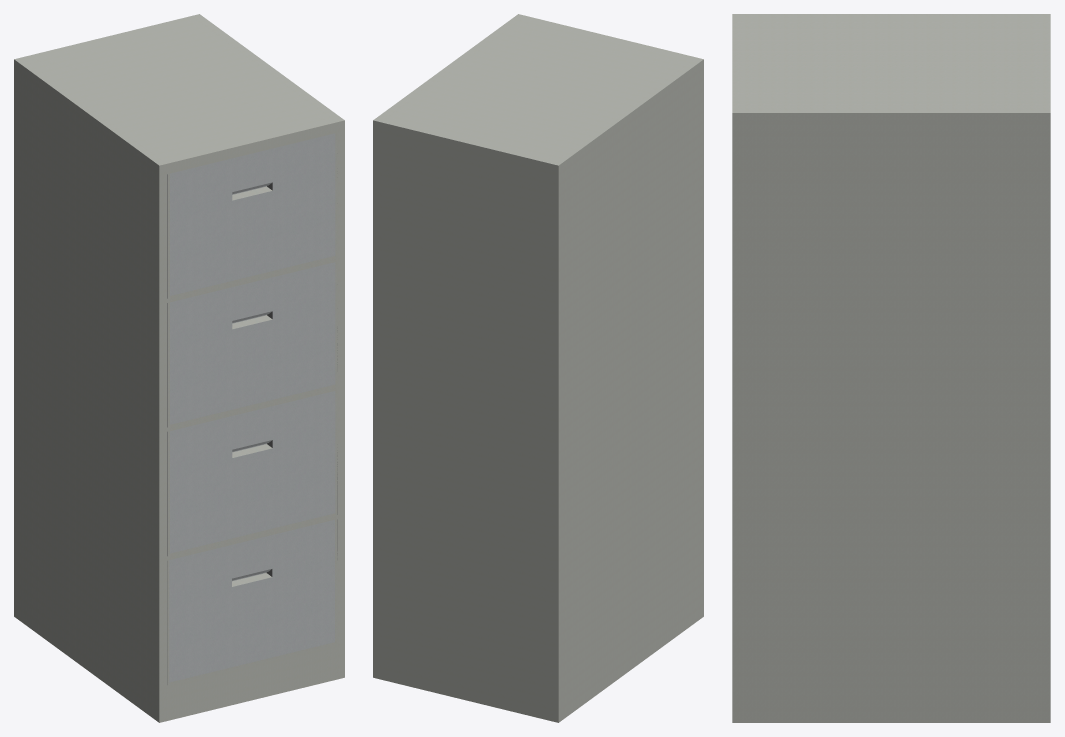
File: shelf.gltf
3 views of the same model, side by side, from view 1: azimuth 30°, elevation 25°; view 2: azimuth 150°, elevation 25°; view 3: azimuth 270°, elevation 25° (orthographic). The views are drawn at different scales.
Parts seen in each view (by area): view 1: Structure, Shelf (×4), UnderShelf (×3); view 2: Structure; view 3: Structure.
Part boxes in pixels (box(x1,y1,x2,y2)): Structure: box(14, 14, 344, 722); Shelf (×4): box(167, 133, 337, 684); UnderShelf (×3): box(167, 257, 336, 560); Structure: box(373, 14, 703, 722); Structure: box(732, 14, 1050, 722).
Bounding box in the file's own units: 0.46 × 1.32 × 0.624.
Materials: 3 (2 with a texture image).
